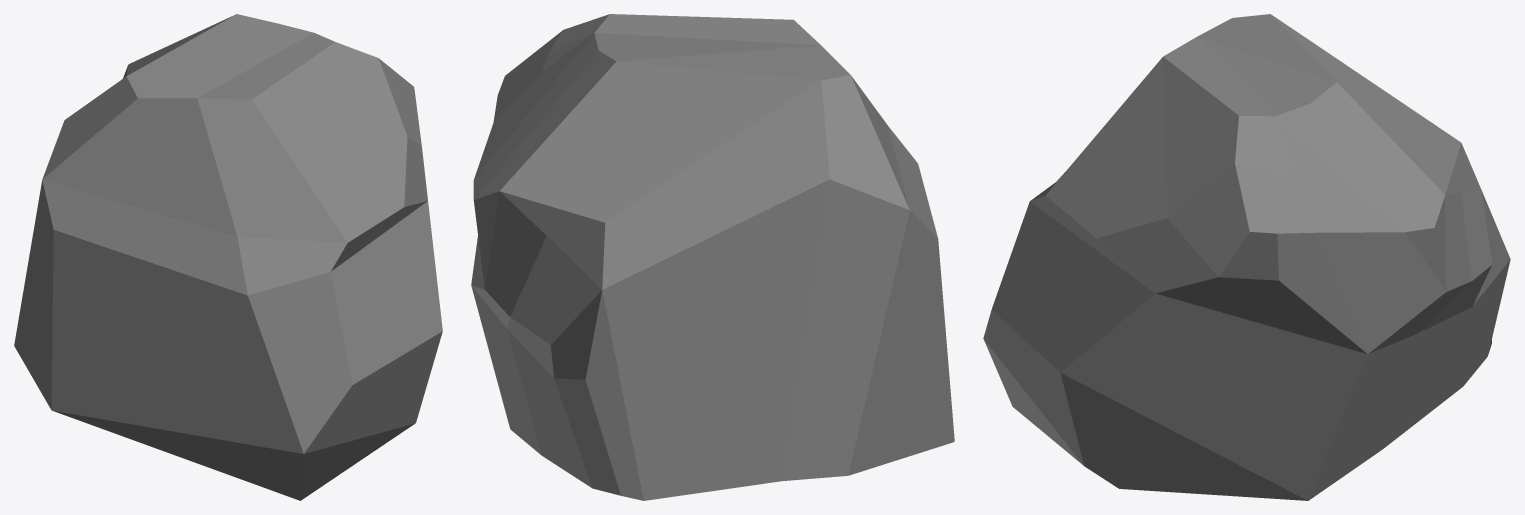
File: Mesh_Rock1.fbx
3 views of the same model, side by side, from view 1: azimuth 30°, elevation 25°; view 2: azimuth 150°, elevation 25°; view 3: azimuth 270°, elevation 25° (orthographic). The views are drawn at different scales.
Visible parts, largest first — view 1: Mesh_Rock1; view 2: Mesh_Rock1; view 3: Mesh_Rock1.
Part boxes in pixels (bbox=[...]): Mesh_Rock1: bbox=[14, 14, 442, 500]; Mesh_Rock1: bbox=[471, 14, 954, 500]; Mesh_Rock1: bbox=[983, 14, 1510, 500].
Size of the model in its own units: 1.77 by 1.63 by 2.06.
1 material, 1 textured.
